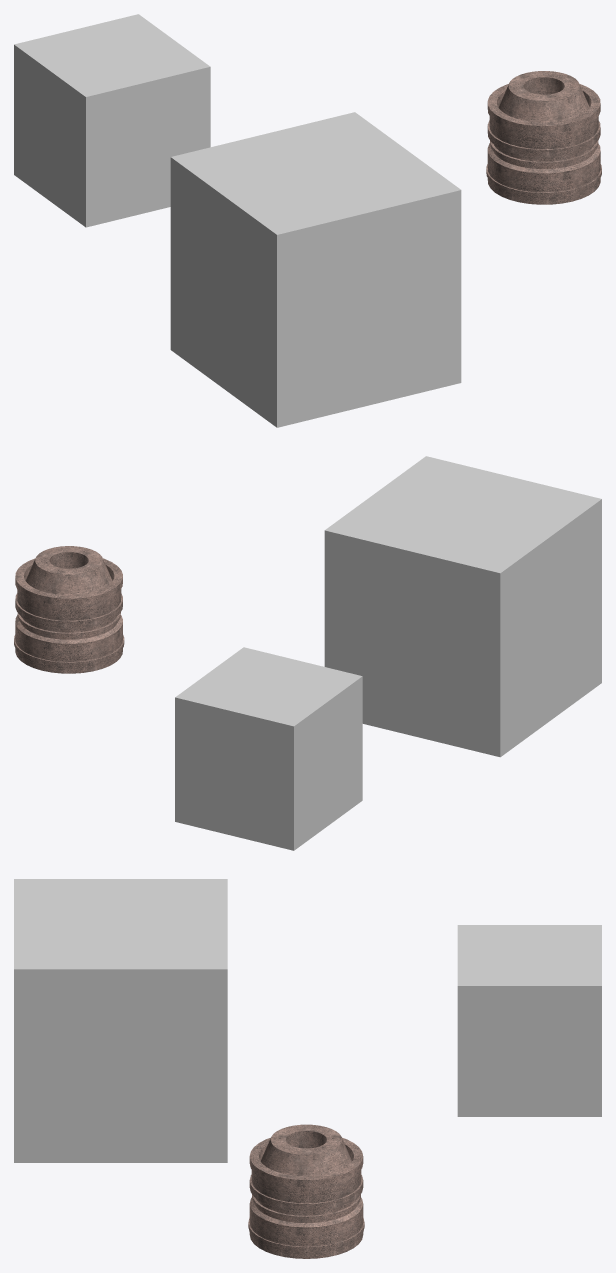
The model's file is ColTest.gltf.
3 renders of one model, top to bottom at view 1: azimuth 30°, elevation 25°; view 2: azimuth 150°, elevation 25°; view 3: azimuth 270°, elevation 25°, orthographic. The views are drawn at different scales.
Visible parts, largest first — view 1: Cube, Cube.001, Boiler; view 2: Cube, Cube.001, Boiler; view 3: Cube, Cube.001, Boiler.
Boxes of the visible parts, bbox=[...] form: Cube: bbox=[170, 112, 461, 427]; Cube.001: bbox=[14, 14, 210, 227]; Boiler: bbox=[486, 71, 601, 204]; Cube: bbox=[324, 456, 601, 757]; Cube.001: bbox=[175, 647, 362, 850]; Boiler: bbox=[14, 546, 124, 673]; Cube: bbox=[14, 879, 227, 1162]; Cube.001: bbox=[457, 925, 601, 1116]; Boiler: bbox=[248, 1124, 364, 1258].
Bounding box in the file's own units: 13.93 × 5.55 × 15.27.
Materials: 2 (1 with a texture image).
